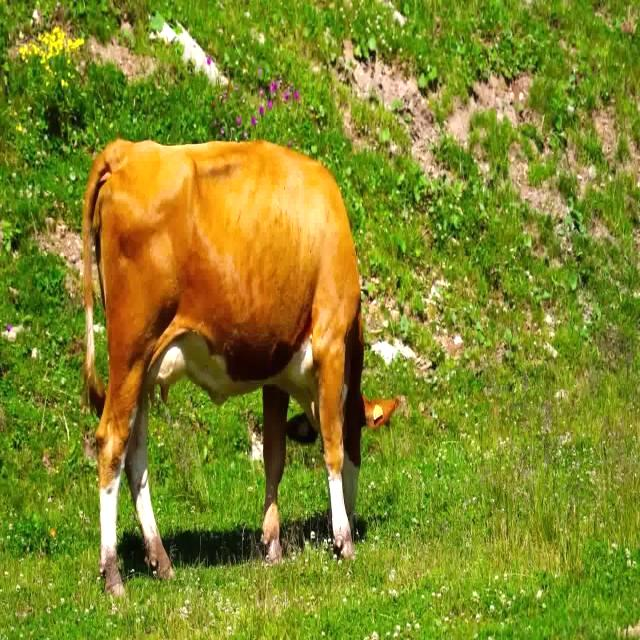COW: (84, 140, 398, 596)
